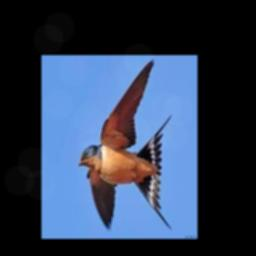Swallow: (76, 59, 172, 230)
